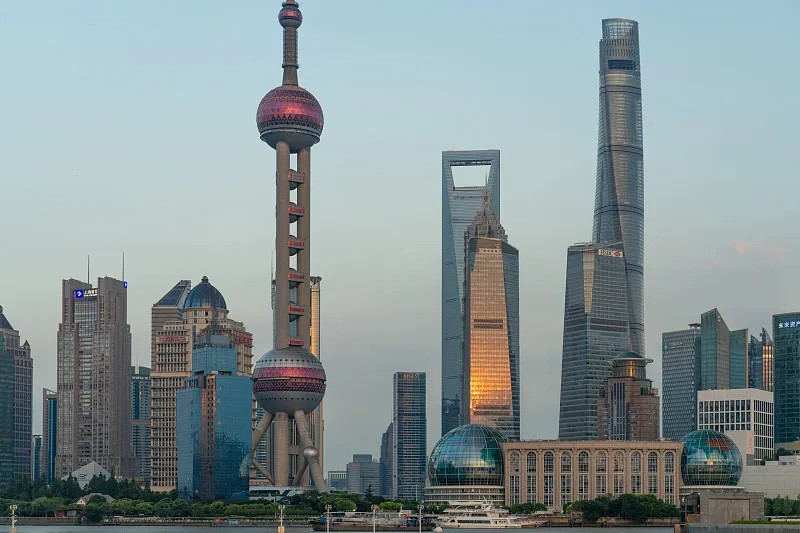Oriental: (252, 2, 330, 494)
